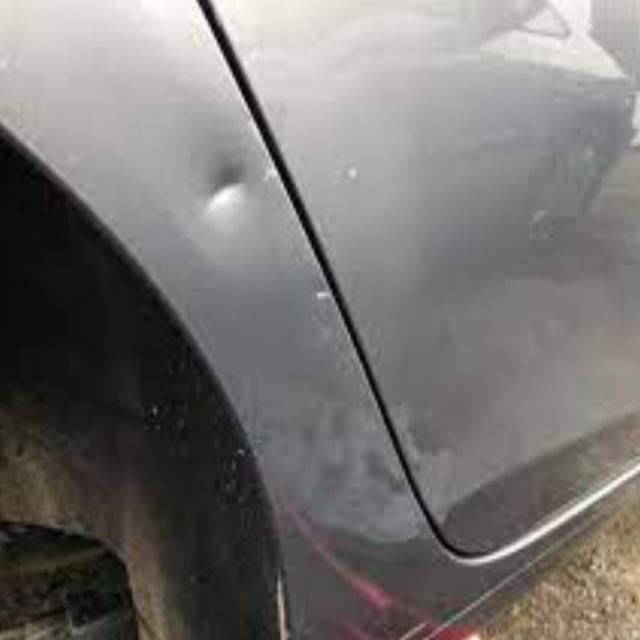dents: (179, 127, 284, 290), (312, 278, 348, 354)
